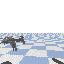drone: (0, 36, 25, 51)
